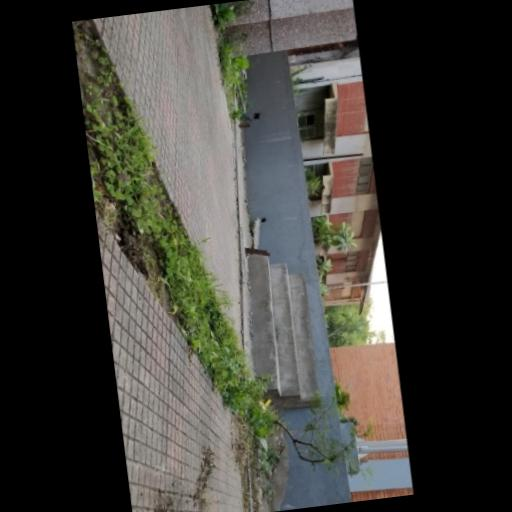stairs: (247, 254, 316, 407)
